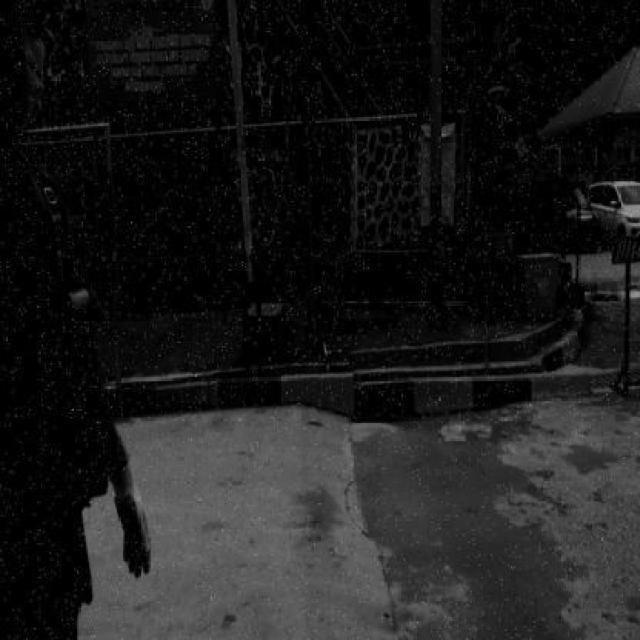Gloves: (110, 459, 158, 590)
Mask: (2, 25, 49, 140)
Protective Glasses: (0, 0, 51, 35)
Vest: (0, 285, 109, 563)
